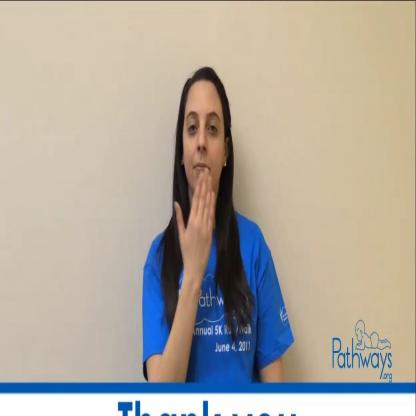ThankYou: (150, 34, 255, 296)
